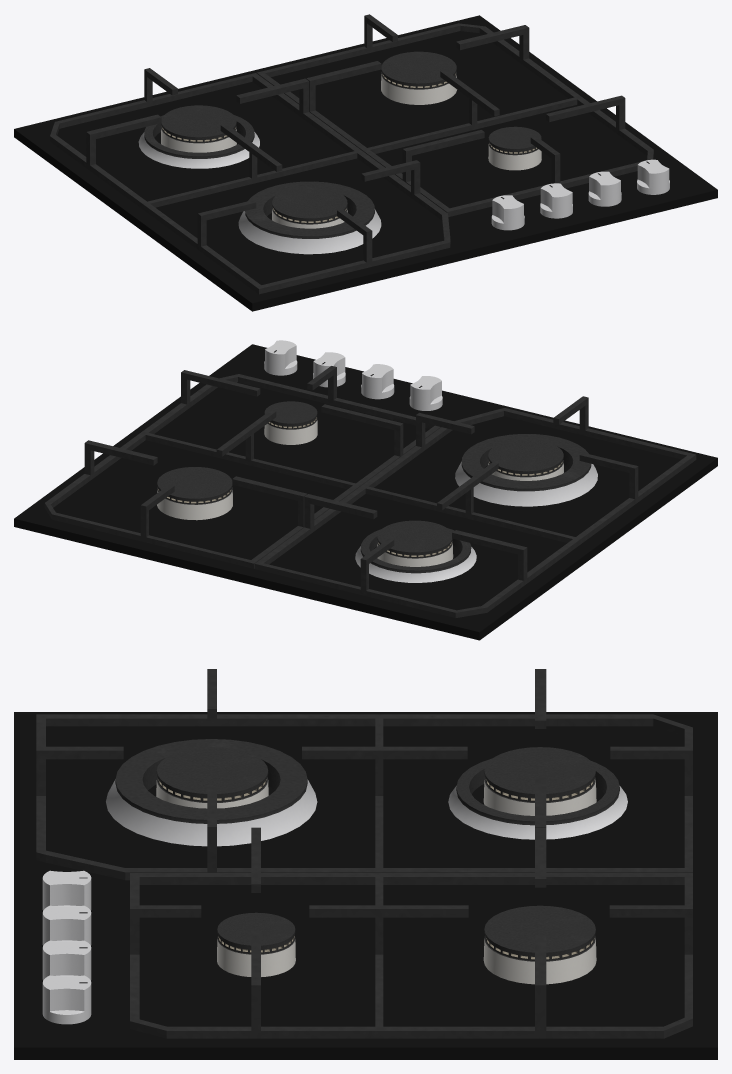
The model's file is GasStove07.fbx.
3 views of the same model, one above another, from view 1: azimuth 30°, elevation 25°; view 2: azimuth 150°, elevation 25°; view 3: azimuth 270°, elevation 25° (orthographic). The views are drawn at different scales.
Visible parts, largest first — view 1: GasStove07, GasStove07_Knob02, GasStove07_Knob03, GasStove07_Knob04, GasStove07_Knob01; view 2: GasStove07, GasStove07_Knob04, GasStove07_Knob02, GasStove07_Knob01, GasStove07_Knob03; view 3: GasStove07, GasStove07_Knob04, GasStove07_Knob02, GasStove07_Knob03, GasStove07_Knob01.
Boxes of the visible parts, bbox=[...] form: GasStove07: bbox=[14, 14, 717, 311]; GasStove07_Knob02: bbox=[540, 183, 572, 218]; GasStove07_Knob03: bbox=[588, 171, 621, 206]; GasStove07_Knob04: bbox=[637, 159, 669, 194]; GasStove07_Knob01: bbox=[491, 195, 524, 230]; GasStove07: bbox=[14, 344, 717, 640]; GasStove07_Knob04: bbox=[264, 340, 297, 375]; GasStove07_Knob02: bbox=[361, 364, 394, 399]; GasStove07_Knob01: bbox=[409, 376, 442, 410]; GasStove07_Knob03: bbox=[313, 352, 345, 387]; GasStove07: bbox=[14, 669, 717, 1059]; GasStove07_Knob04: bbox=[42, 975, 91, 1024]; GasStove07_Knob02: bbox=[42, 905, 91, 945]; GasStove07_Knob03: bbox=[42, 940, 91, 980]; GasStove07_Knob01: bbox=[42, 870, 91, 910].
Size of the model in its own units: 65.79 by 5.99 by 58.33.
